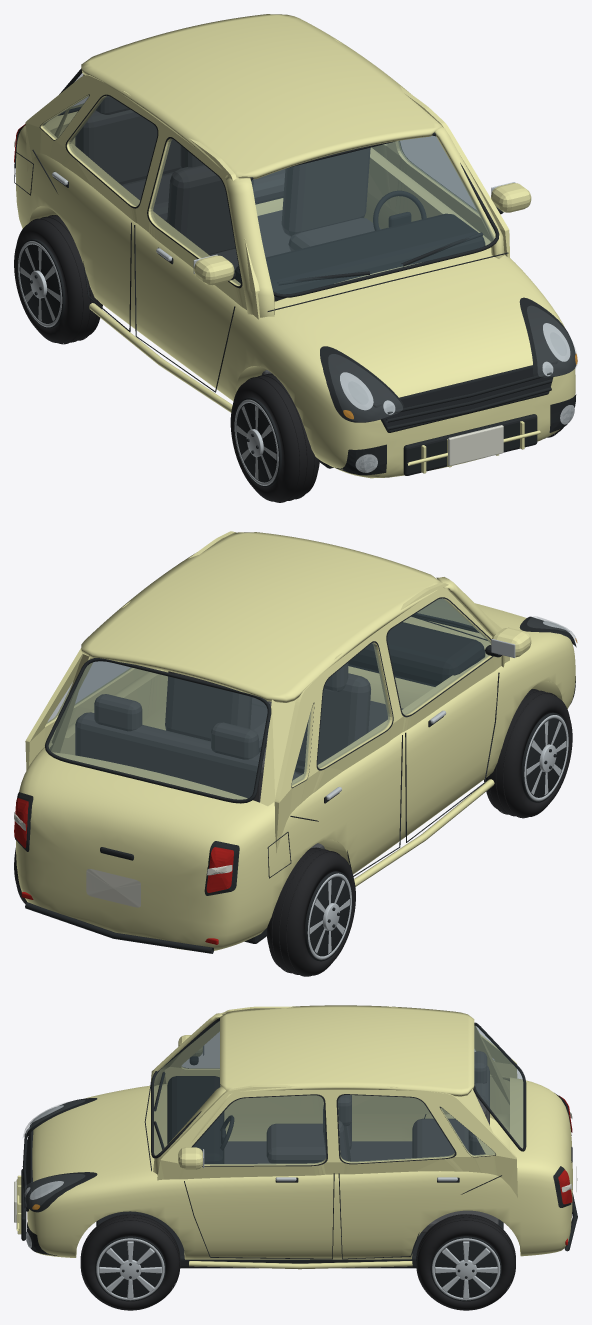
The model's file is Kei_Hatchback.glb.
The picture shows the model from 3 angles, top to bottom: view 1: azimuth 30°, elevation 25°; view 2: azimuth 150°, elevation 25°; view 3: azimuth 270°, elevation 25°; orthographic projection. The views are drawn at different scales.
Parts seen in each view (by area): view 1: Part_Body_Pale_Cream_Yellow, Part_Windows_Smoked_Glass, Interior_Basic, Part_Trim_Satin_Black, Wheel_L_Front, Wheel_L_Rear, Part_Headlight_Clear_Lens, Part_Wheel_Silver, Part_Plate_Ivory; view 2: Part_Body_Pale_Cream_Yellow, Part_Windows_Smoked_Glass, Interior_Basic, Wheel_L_Rear, Part_Trim_Satin_Black, Wheel_L_Front, Part_Plate_Ivory, Part_Rear_Lamp_Red, Part_Wheel_Silver; view 3: Part_Body_Pale_Cream_Yellow, Part_Windows_Smoked_Glass, Interior_Basic, Wheel_R_Front, Wheel_R_Rear, Part_Trim_Satin_Black, Part_Headlight_Clear_Lens, Part_Wheel_Silver.
Part boxes in pixels (x1=…): Part_Body_Pale_Cream_Yellow: x1=15, y1=14, x2=575, y2=478; Part_Windows_Smoked_Glass: x1=42, y1=73, x2=495, y2=293; Interior_Basic: x1=75, y1=96, x2=485, y2=468; Part_Trim_Satin_Black: x1=14, y1=68, x2=576, y2=475; Wheel_L_Front: x1=230, y1=373, x2=319, y2=502; Wheel_L_Rear: x1=14, y1=215, x2=102, y2=344; Part_Headlight_Clear_Lens: x1=329, y1=306, x2=577, y2=470; Part_Wheel_Silver: x1=52, y1=172, x2=574, y2=472; Part_Plate_Ivory: x1=14, y1=140, x2=503, y2=465; Part_Body_Pale_Cream_Yellow: x1=16, y1=531, x2=575, y2=950; Part_Windows_Smoked_Glass: x1=46, y1=598, x2=490, y2=799; Interior_Basic: x1=75, y1=622, x2=485, y2=943; Wheel_L_Rear: x1=266, y1=847, x2=355, y2=976; Part_Trim_Satin_Black: x1=14, y1=597, x2=576, y2=953; Wheel_L_Front: x1=484, y1=689, x2=572, y2=818; Part_Plate_Ivory: x1=14, y1=812, x2=232, y2=907; Part_Rear_Lamp_Red: x1=14, y1=798, x2=233, y2=944; Part_Wheel_Silver: x1=326, y1=621, x2=569, y2=799; Part_Body_Pale_Cream_Yellow: x1=16, y1=1005, x2=572, y2=1269; Part_Windows_Smoked_Glass: x1=154, y1=1021, x2=523, y2=1164; Interior_Basic: x1=96, y1=1051, x2=503, y2=1268; Wheel_R_Front: x1=80, y1=1214, x2=180, y2=1310; Wheel_R_Rear: x1=416, y1=1214, x2=515, y2=1310; Part_Trim_Satin_Black: x1=21, y1=1018, x2=577, y2=1259; Part_Headlight_Clear_Lens: x1=23, y1=1100, x2=84, y2=1245; Part_Wheel_Silver: x1=24, y1=1046, x2=457, y2=1247.
Size of the model in its own units: 1.8 by 1.5 by 3.46.
